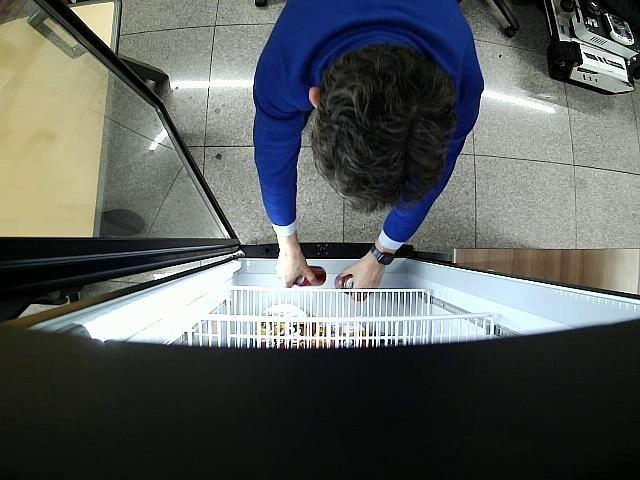11_cocaColaZero: (295, 265, 327, 286), (334, 274, 354, 294)
